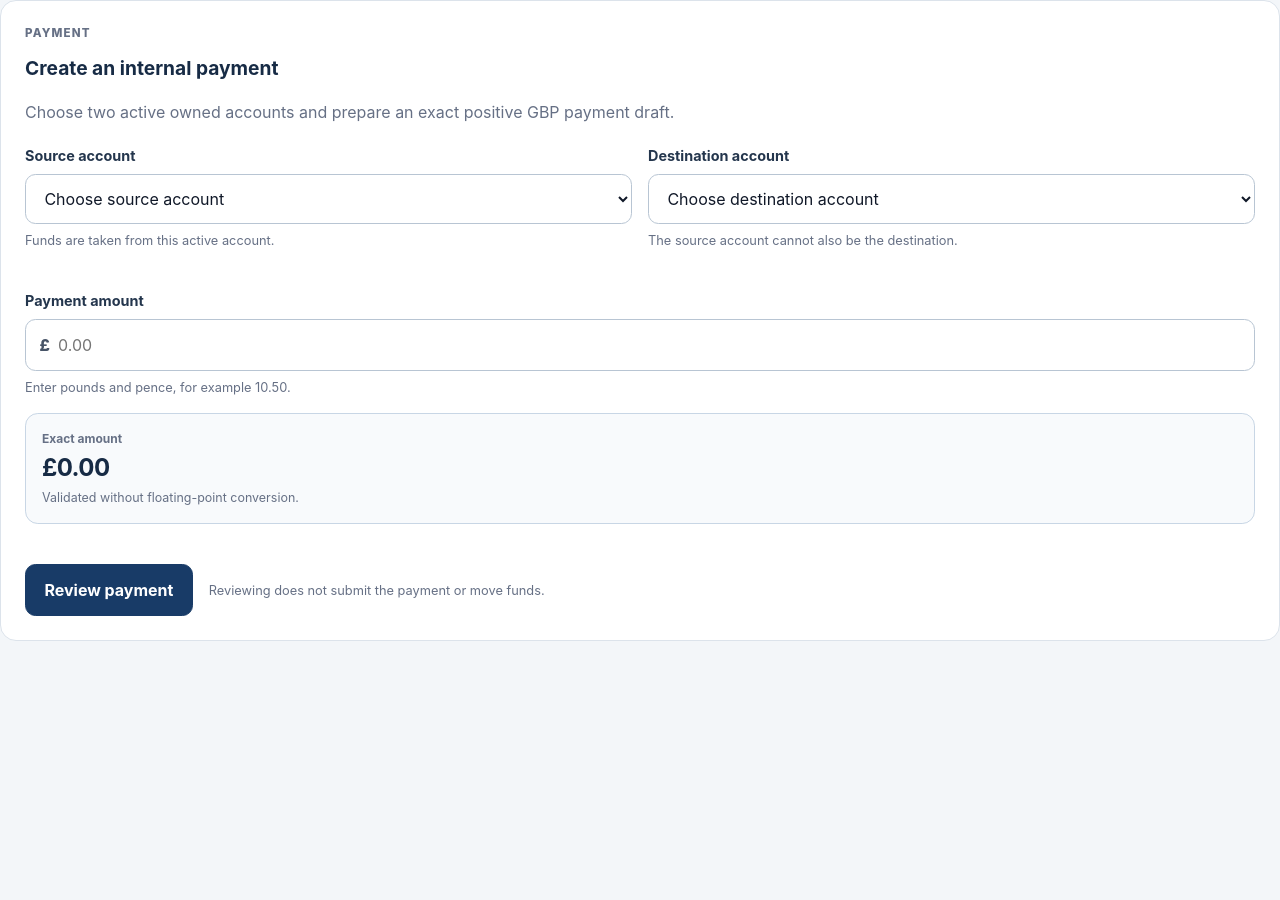
Test case: PaymentCreationForm › requires complete details before review
Step 1. Click the button "Review payment" → (109, 590), box top-left (25, 564), bottom-right (193, 616)
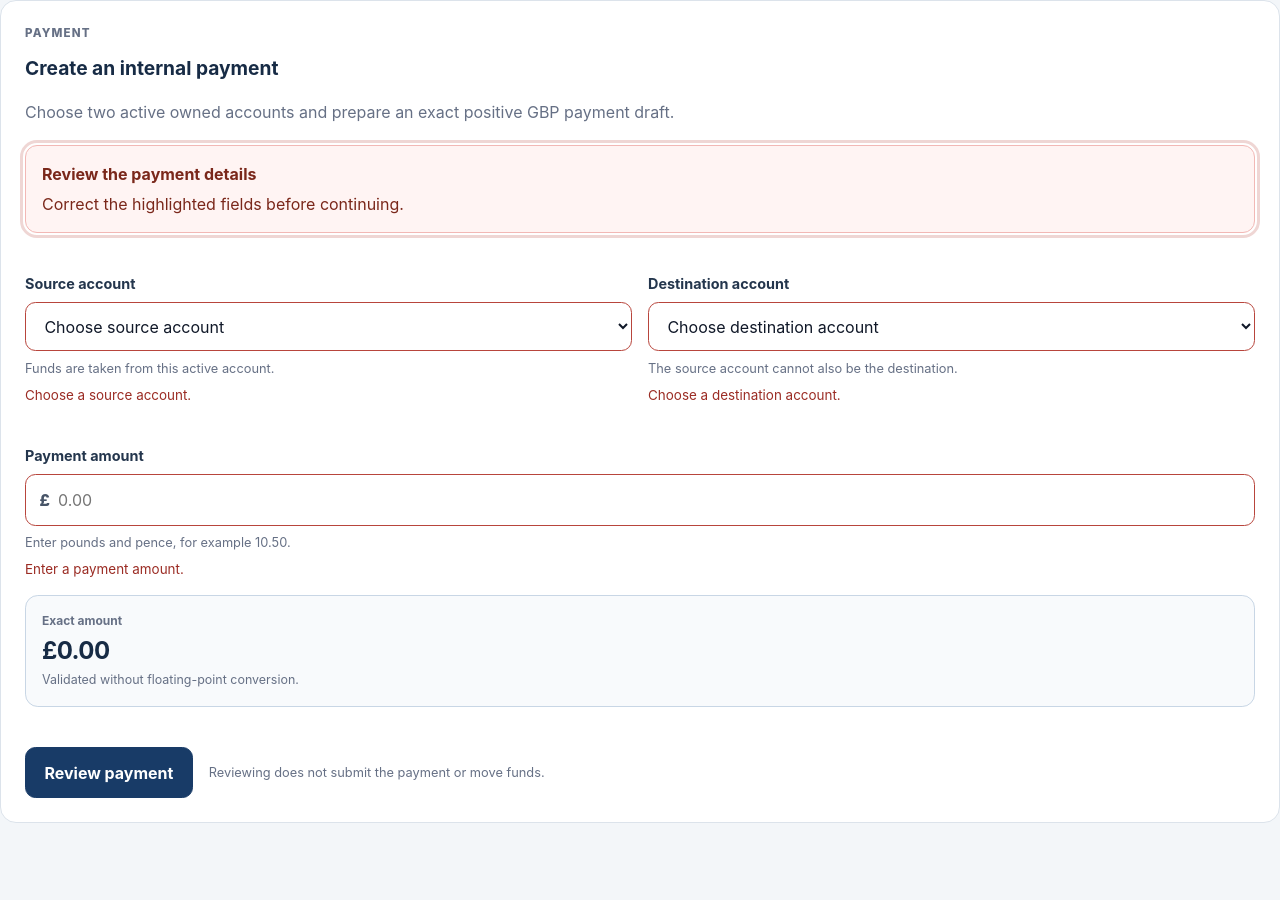
Expected: the text "Review the payment details" is shown, top-left (42, 164), bottom-right (256, 184)
Expected: the text "Choose a source account." is shown, top-left (25, 387), bottom-right (191, 403)
Expected: the text "Choose a destination account." is shown, top-left (648, 387), bottom-right (841, 403)
